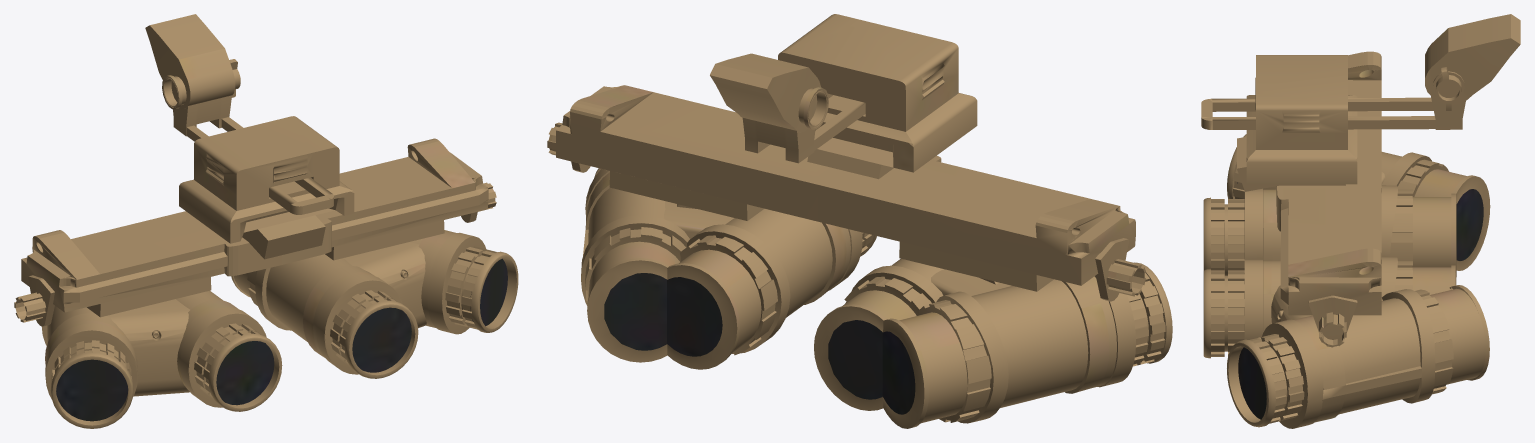
The model's file is pj-nvg.glb.
3 renders of one model, left to right at view 1: azimuth 30°, elevation 25°; view 2: azimuth 150°, elevation 25°; view 3: azimuth 270°, elevation 25°, orthographic. The views are drawn at different scales.
Parts seen in each view (by area): view 1: Helmet; view 2: Helmet; view 3: Helmet.
Boxes of the visible parts, box(x1,y1,x2,y2) form: Helmet: box(14, 14, 518, 428); Helmet: box(547, 14, 1172, 428); Helmet: box(1201, 14, 1520, 428).
Bounding box in the file's own units: 2.21 × 1.27 × 1.21.
Materials: 1 (1 with a texture image).
